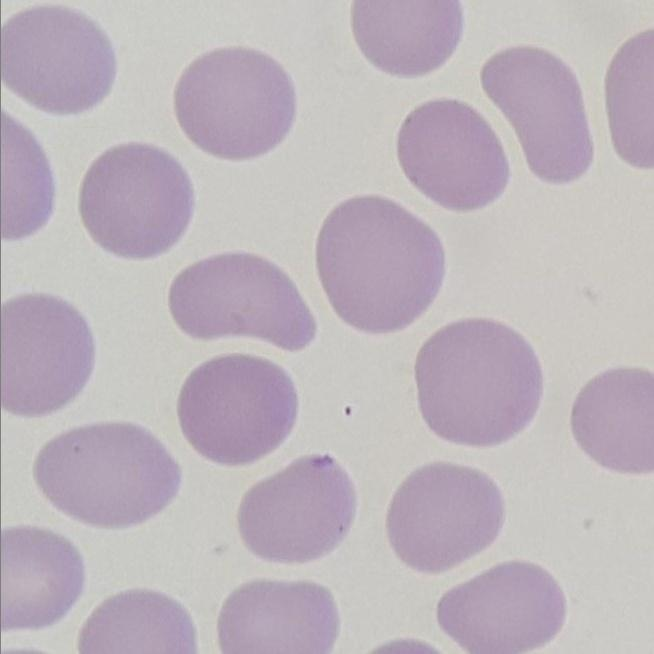Uninfected: (317, 192, 444, 331), (480, 46, 598, 187), (417, 319, 544, 447), (33, 421, 184, 527), (170, 254, 316, 351), (178, 42, 297, 161), (239, 451, 356, 566), (0, 2, 119, 113), (80, 142, 192, 258), (402, 99, 511, 215), (390, 462, 503, 572), (183, 359, 296, 466), (0, 292, 97, 415), (442, 559, 563, 654), (213, 576, 338, 654), (572, 364, 654, 479), (0, 526, 86, 632), (87, 594, 197, 654)
